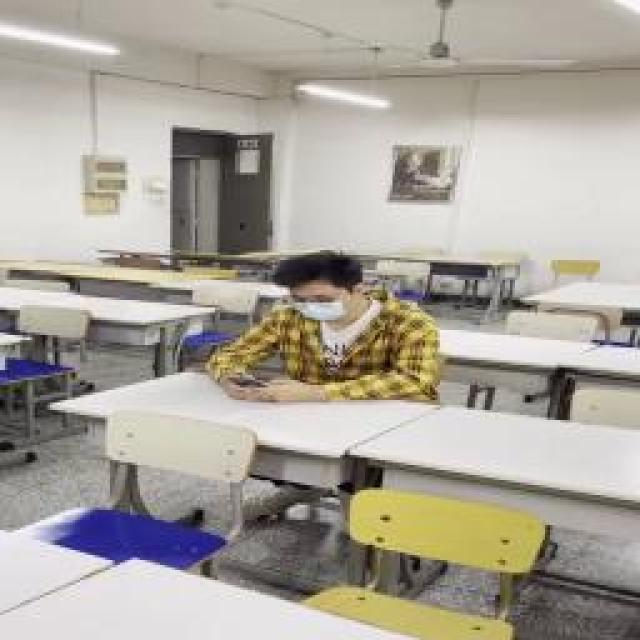phone: (208, 250, 438, 402)
